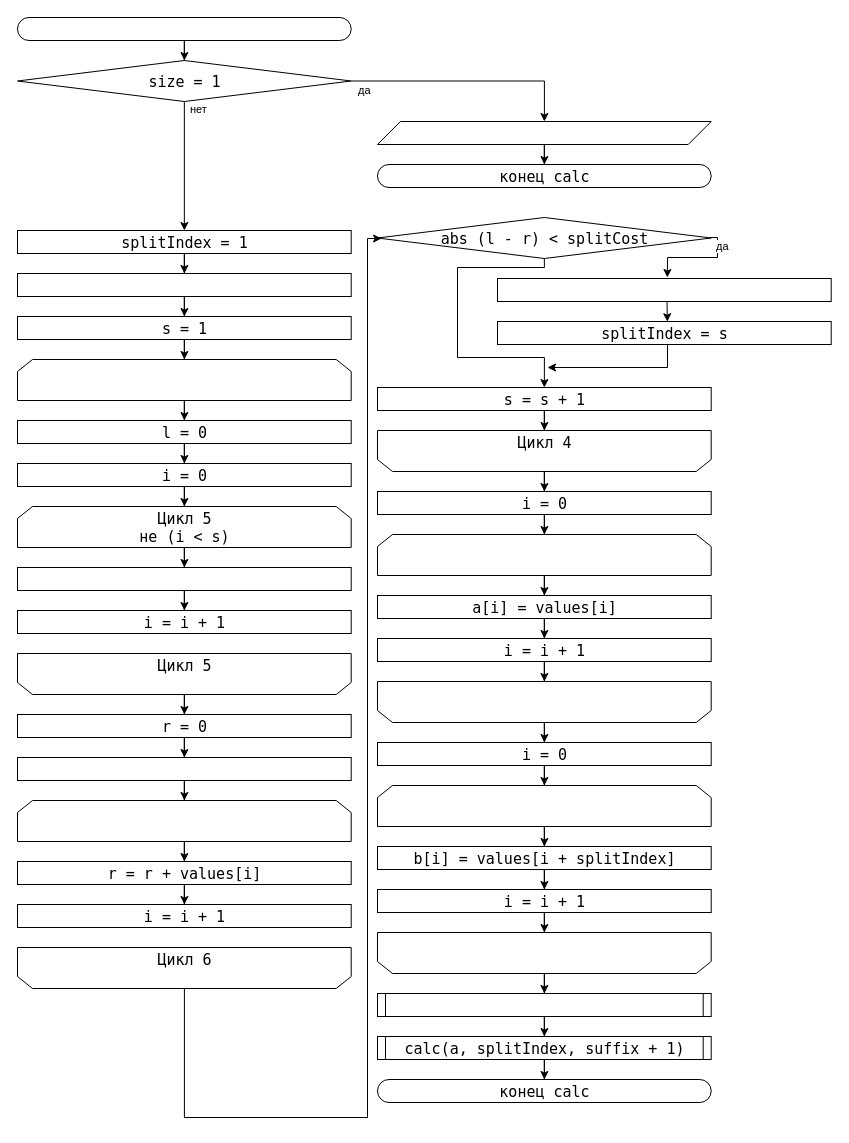
The diagram is 849 pixels wide and 1143 high, and some of its shapes have lost their labels. The box of each missing label's shape, as (x1, y1, x2, y2) in pixels:
calc(b, size - splitIndex, suffix + 0): (376, 992, 711, 1016)
i = s: (16, 756, 351, 780)
l = l + values[i]: (16, 566, 351, 590)
splitCost = abs (l - r): (496, 278, 831, 302)
splitCost = size: (16, 272, 351, 296)
вывод suffix + " ": (376, 120, 711, 144)
начало calc: (16, 16, 351, 40)
Цикл 4 не (s < size): (16, 358, 351, 400)
Цикл 6 не (i < size): (16, 800, 351, 842)
Цикл 7: (376, 680, 711, 722)
Цикл 7 не (i < splitIndex): (376, 534, 711, 576)
Цикл 8: (376, 932, 711, 974)
Цикл 8 не (i < size - splitIndex): (376, 784, 711, 826)
